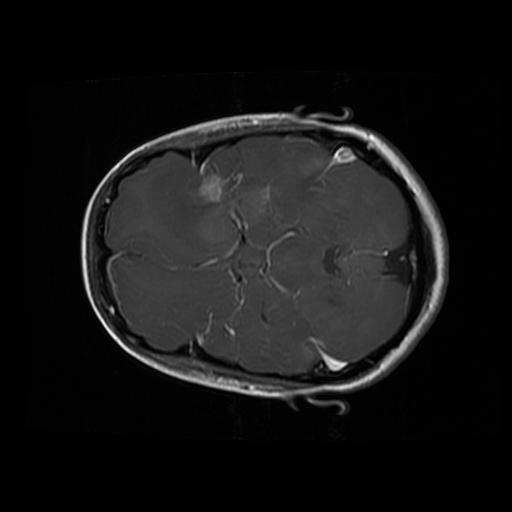glioma: (192, 166, 273, 246)
